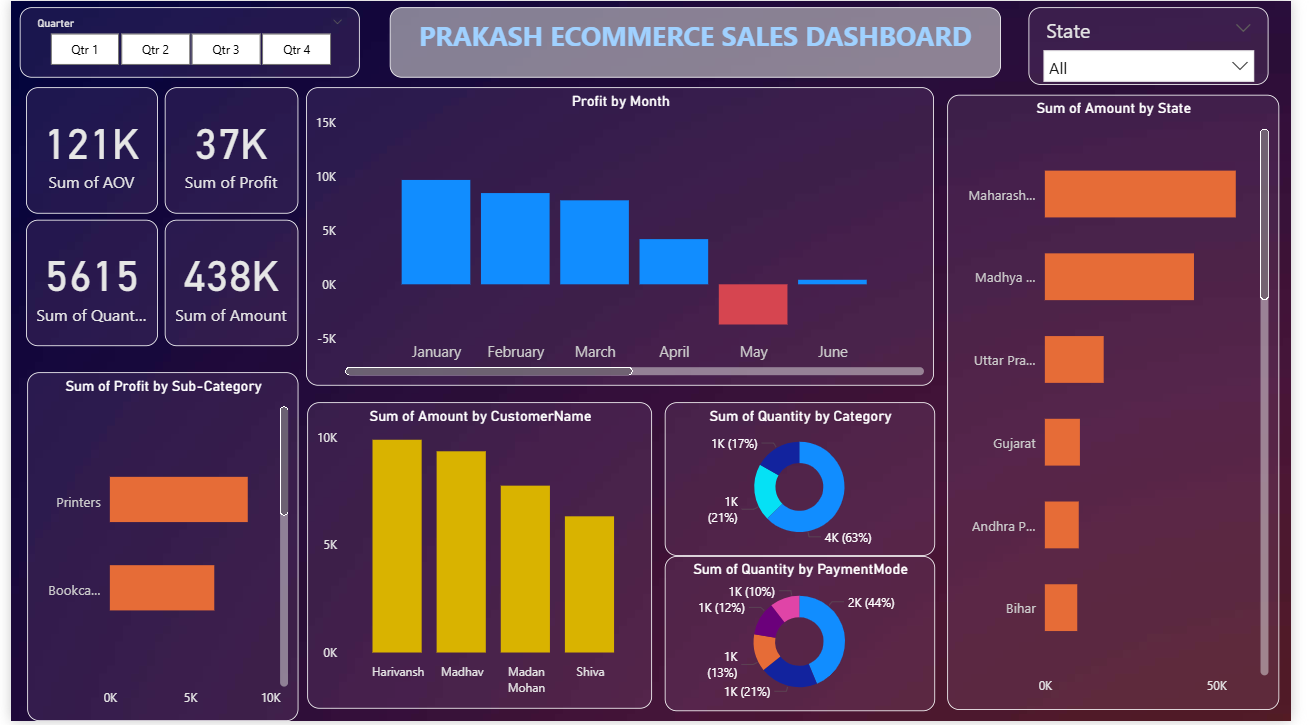

The dashboard page shown, as its layout file describes it:
{"tool":"powerbi","page":{"name":"Page 1","canvas":[1280,720],"ordinal":0},"visuals":[{"type":"textbox","box":[468.3,6.7,448.3,70],"z":0},{"type":"columnChart","title":"Profit by Month","fields":{"Category":["Orders.Order Date.Variation.Date Hierarchy.Month"],"Y":["Sum(Details.Profit)"]},"box":[295,86.7,628.3,298.3],"z":1000},{"type":"barChart","fields":{"Category":["Details.Sub-Category"],"Y":["Sum(Details.Profit)"]},"box":[15,360,271.7,348.3],"z":2000},{"type":"donutChart","fields":{"Category":["Details.Category"],"Y":["Sum(Details.Quantity)"]},"box":[653.3,401.7,270,153.3],"z":3000},{"type":"donutChart","fields":{"Y":["Sum(Details.Quantity)"],"Category":["Details.PaymentMode"]},"box":[653.3,555,270,155],"z":4000},{"type":"card","fields":{"Values":["Sum(Details.Amount)"]},"box":[153.3,218.3,133.3,126.7],"z":5000},{"type":"card","fields":{"Values":["Sum(Details.AOV)"]},"box":[15,86.7,131.7,126.7],"z":6000},{"type":"card","fields":{"Values":["Sum(Details.Quantity)"]},"box":[15,218.3,131.7,126.7],"z":7000},{"type":"card","fields":{"Values":["Sum(Details.Profit)"]},"box":[153.3,86.7,133.3,126.7],"z":8000},{"type":"barChart","fields":{"Y":["Sum(Details.Amount)"],"Category":["Orders.State"]},"box":[936.7,93.3,331.7,615],"z":9000},{"type":"columnChart","fields":{"Category":["Orders.CustomerName"],"Y":["Sum(Details.Amount)"]},"box":[296.7,401.7,345,306.7],"z":10000},{"type":"slicer","fields":{"Values":["Orders.Order Date.Variation.Date Hierarchy.Quarter"]},"box":[8.3,6.7,340,70],"z":11000},{"type":"slicer","fields":{"Values":["Orders.State"]},"box":[1028.3,8.3,240,78.3],"z":12000}]}

Visuals, with their boxes in screenshot pixels (x1, y1, x2, y2), scaled from the page's 1280x720 canvas onto the 1310x725 screenshot:
textbox: <bbox>479, 7, 938, 77</bbox>
"Profit by Month" columnChart: <bbox>302, 87, 945, 388</bbox>
barChart - Details.Sub-Category x Sum(Details.Profit): <bbox>15, 362, 293, 713</bbox>
donutChart - Details.Category x Sum(Details.Quantity): <bbox>669, 404, 945, 559</bbox>
donutChart - Sum(Details.Quantity) x Details.PaymentMode: <bbox>669, 559, 945, 715</bbox>
card - Sum(Details.Amount): <bbox>157, 220, 293, 347</bbox>
card - Sum(Details.AOV): <bbox>15, 87, 150, 215</bbox>
card - Sum(Details.Quantity): <bbox>15, 220, 150, 347</bbox>
card - Sum(Details.Profit): <bbox>157, 87, 293, 215</bbox>
barChart - Sum(Details.Amount) x Orders.State: <bbox>959, 94, 1298, 713</bbox>
columnChart - Orders.CustomerName x Sum(Details.Amount): <bbox>304, 404, 657, 713</bbox>
slicer - Orders.Order Date.Variation.Date Hierarchy.Quarter: <bbox>8, 7, 356, 77</bbox>
slicer - Orders.State: <bbox>1052, 8, 1298, 87</bbox>
